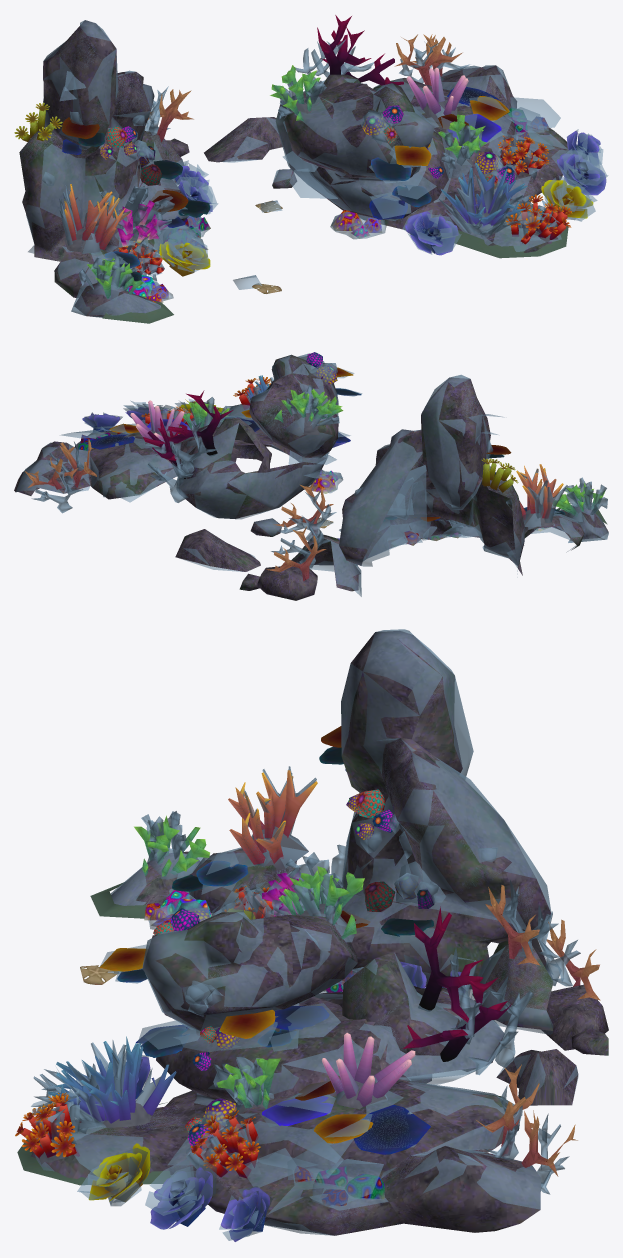
Rendered from coral.glb.
The picture shows the model from 3 angles, top to bottom: view 1: azimuth 30°, elevation 25°; view 2: azimuth 150°, elevation 25°; view 3: azimuth 270°, elevation 25°; orthographic projection. The views are drawn at different scales.
Size of the model in its own units: 60.16 by 23 by 39.31.
Materials: 7 (6 with a texture image).
